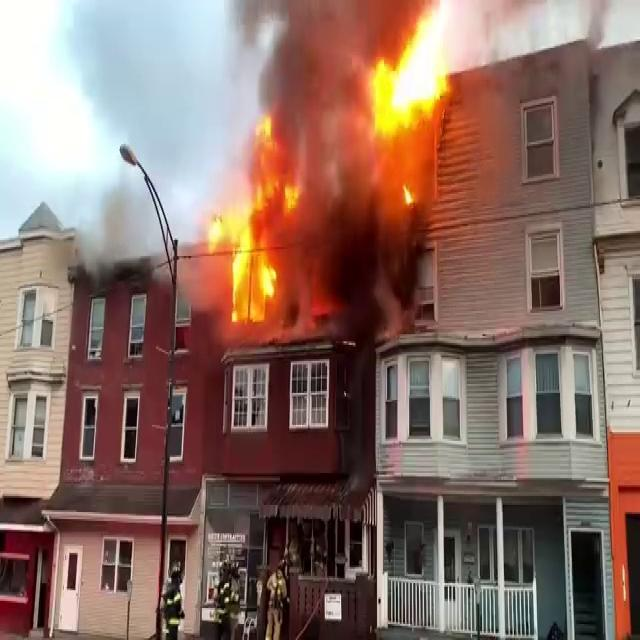Fire: (201, 121, 304, 331), (369, 0, 462, 134)
Smoke: (269, 0, 419, 331), (74, 143, 203, 291)
